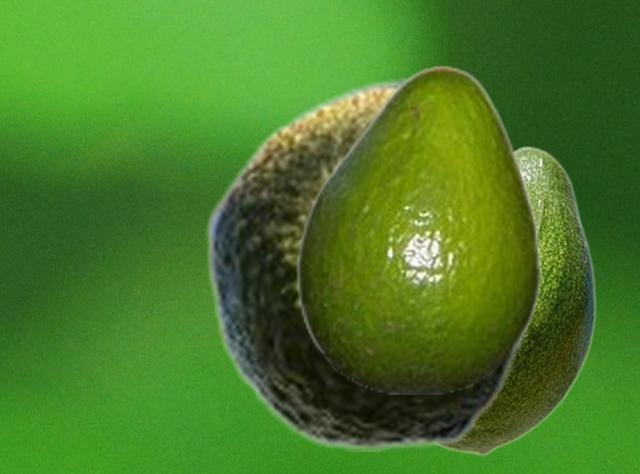avocado: (204, 78, 540, 450), (295, 64, 540, 393), (439, 145, 596, 455)
